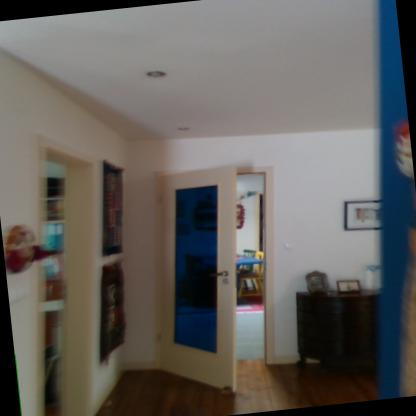semi: (140, 150, 302, 396)
